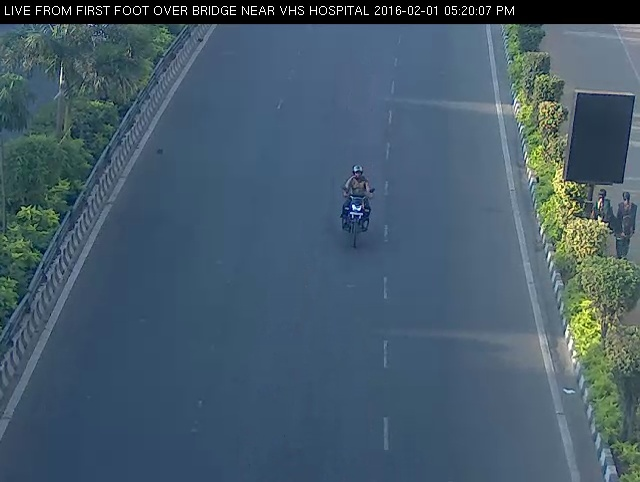Person: (336, 151, 383, 256)
